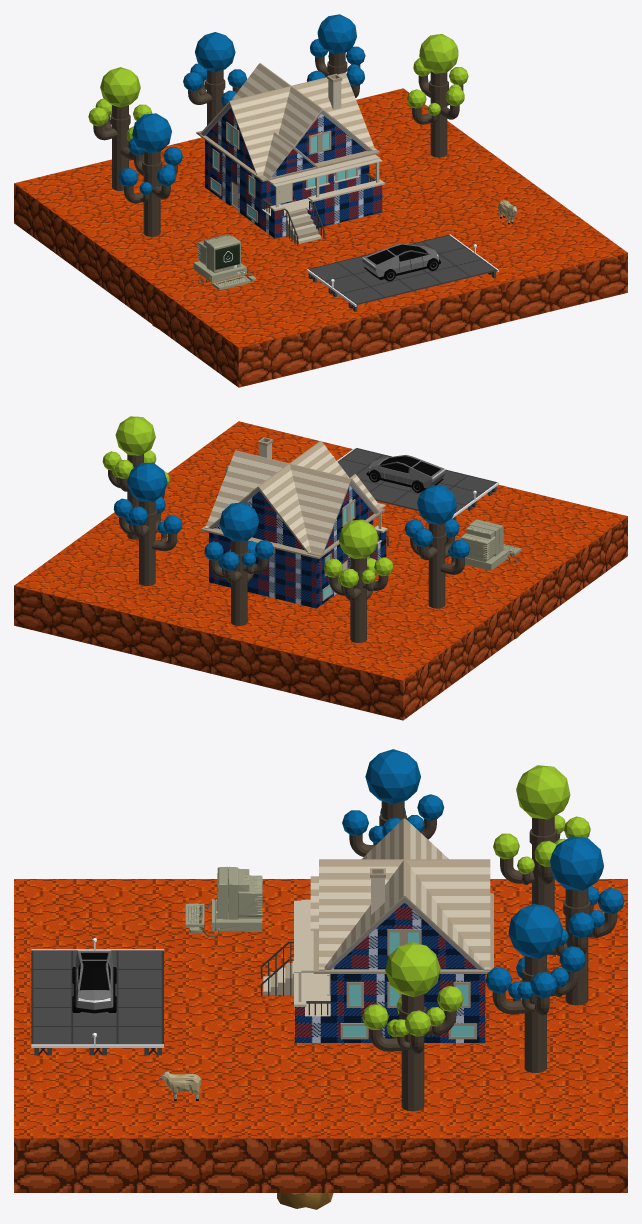
3 renders of one model, top to bottom at view 1: azimuth 30°, elevation 25°; view 2: azimuth 150°, elevation 25°; view 3: azimuth 270°, elevation 25°, orthographic. The views are drawn at different scales.
Visible parts, largest first — view 1: Cube.001, Cube.171, OBJRANDOM_RETRO_PC, VEHICLES_CYBERTRUCK; view 2: Cube.001, Cube.171, VEHICLES_CYBERTRUCK, OBJRANDOM_RETRO_PC; view 3: Cube.001, Cube.171, OBJRANDOM_RETRO_PC, VEHICLES_CYBERTRUCK, UNDERGROUND_T_REX_BONES, ANIMAL_OVEJA.
Part boxes in pixels (<box>): Cube.001: <box>14,14,627,387</box>; Cube.171: <box>196,63,384,245</box>; OBJRANDOM_RETRO_PC: <box>193,234,255,290</box>; VEHICLES_CYBERTRUCK: <box>362,243,440,281</box>; Cube.001: <box>14,416,627,720</box>; Cube.171: <box>201,437,388,608</box>; VEHICLES_CYBERTRUCK: <box>366,455,445,492</box>; OBJRANDOM_RETRO_PC: <box>460,519,521,570</box>; Cube.001: <box>14,749,627,1192</box>; Cube.171: <box>260,818,493,1042</box>; OBJRANDOM_RETRO_PC: <box>185,866,262,936</box>; VEHICLES_CYBERTRUCK: <box>72,950,116,1013</box>; UNDERGROUND_T_REX_BONES: <box>277,1193,333,1209</box>; ANIMAL_OVEJA: <box>159,1071,201,1100</box>.
Bounding box in the file's own units: 4000 × 1777 × 4000.
31 materials, 5 textured.
